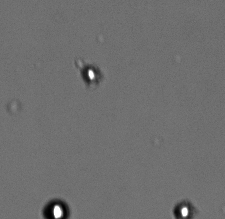Living Cell: (42, 197, 71, 217), (172, 198, 194, 218), (81, 64, 100, 85)
